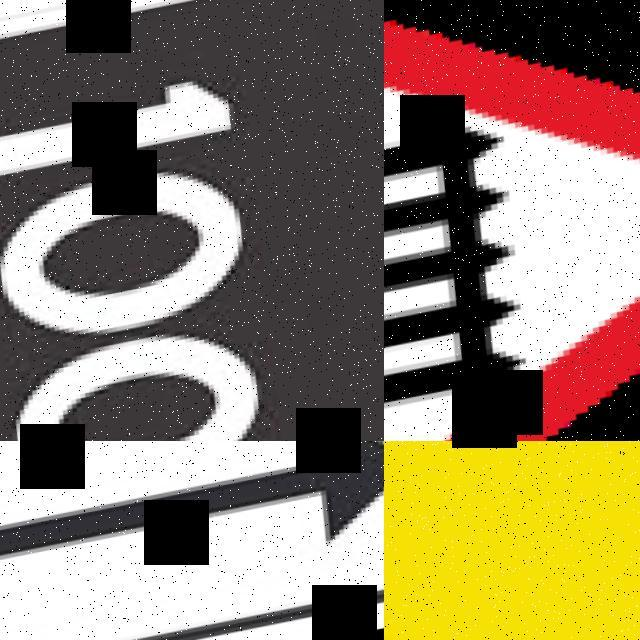100: (0, 0, 384, 441)
174: (384, 441, 640, 640)
66: (0, 441, 384, 640)
Guarded level crossing ahead: (384, 0, 640, 441)
